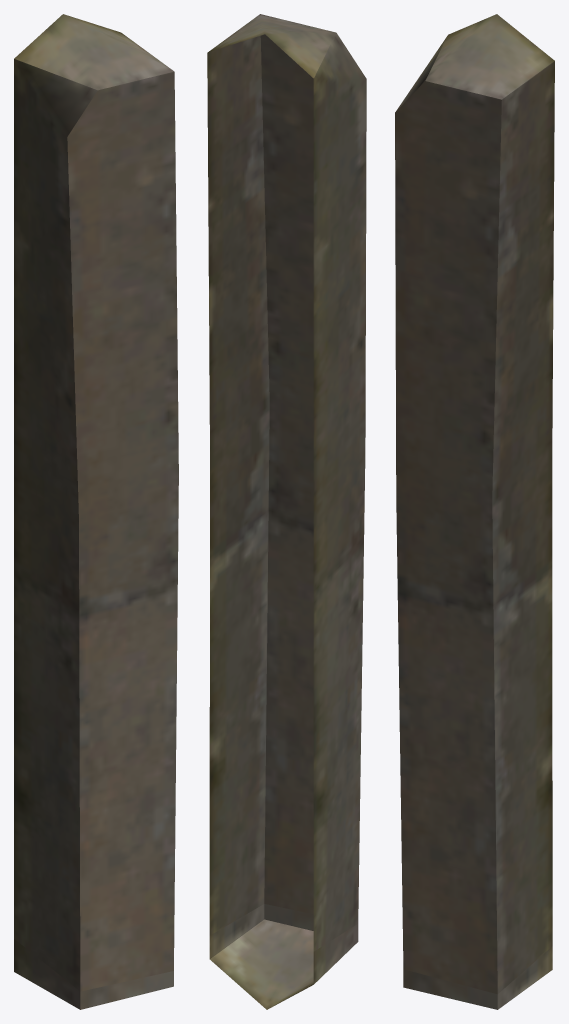
Rendered from border_2m_edge.glb.
3 views of the same model, side by side, from view 1: azimuth 30°, elevation 25°; view 2: azimuth 150°, elevation 25°; view 3: azimuth 330°, elevation 25° (orthographic).
Visible parts, largest first — view 1: set_0_group_0; view 2: set_0_group_0; view 3: set_0_group_0.
Boxes of the visible parts, x1,y1,x2,y2 form: set_0_group_0: (14, 14, 178, 1009); set_0_group_0: (207, 14, 366, 1009); set_0_group_0: (395, 14, 554, 1009).
Bounding box in the file's own units: 0.3195 × 2.8 × 0.3111.
1 material, 1 textured.
